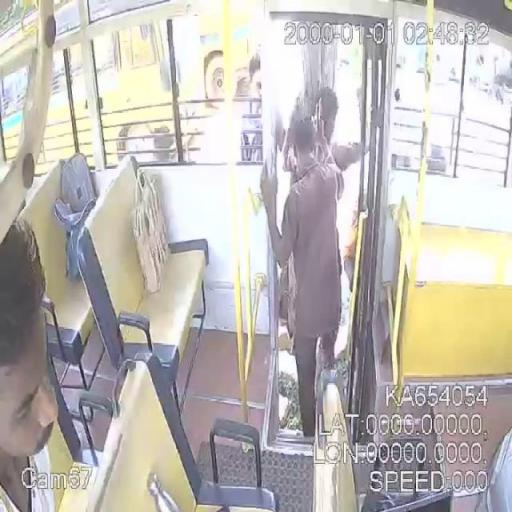persona: (259, 108, 345, 438), (0, 217, 60, 511)
